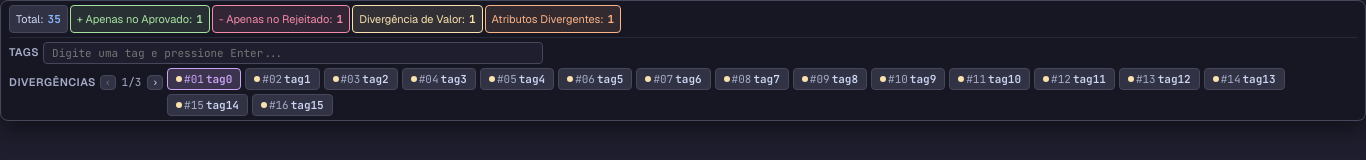
Scenario: ComparatorSummary — Tag Filtering & Cards › 16. exibe controles de slides e navega entre páginas quando houver mais divergências
Expected: the element with test id "diff-cards-slide-controls" is shown, [100, 70, 163, 94]
Expected: the text with test id "slide-indicator" reads "1/3", [122, 75, 141, 89]
// Navegar para o slide 2
Click the button with test id "next-slide-button" at (155, 82), box [147, 74, 163, 90]
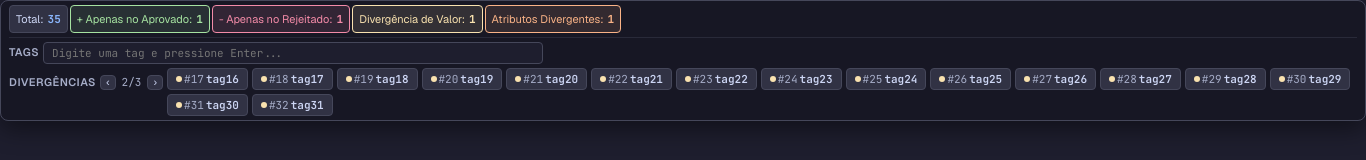
Now the text with test id "slide-indicator" reads "2/3", box [122, 75, 141, 89]
// Navegar para o slide 3
Click the button with test id "next-slide-button" at (155, 82), box [147, 74, 163, 90]
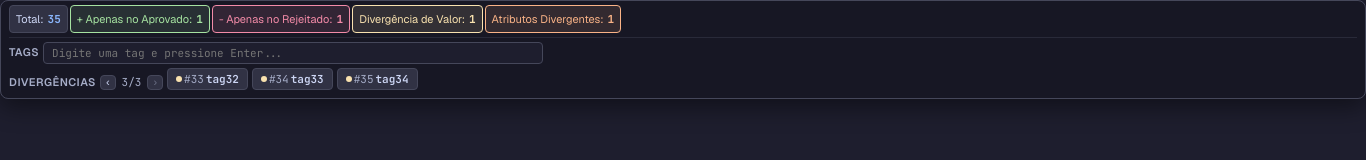
Now the text with test id "slide-indicator" reads "3/3", box [122, 75, 141, 89]
